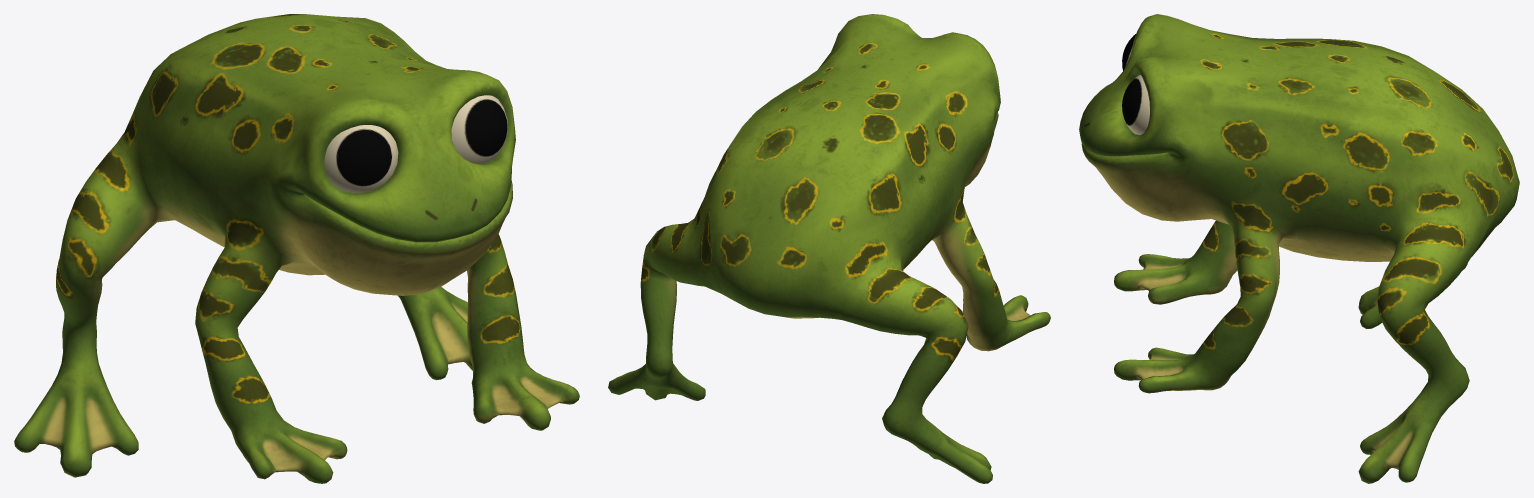
File: Sketchfab_2020_04_15_11_24_55.fbx
3 renders of one model, left to right at view 1: azimuth 30°, elevation 25°; view 2: azimuth 150°, elevation 25°; view 3: azimuth 270°, elevation 25°, orthographic. The views are drawn at different scales.
Parts seen in each view (by area): view 1: 青蛙; view 2: 青蛙; view 3: 青蛙.
Part boxes in pixels (x1,y1,x2,y2): 青蛙: (14,14,579,483); 青蛙: (608,14,1050,483); 青蛙: (1079,14,1519,483).
Bounding box in the file's own units: 116 × 97.2 × 108.
